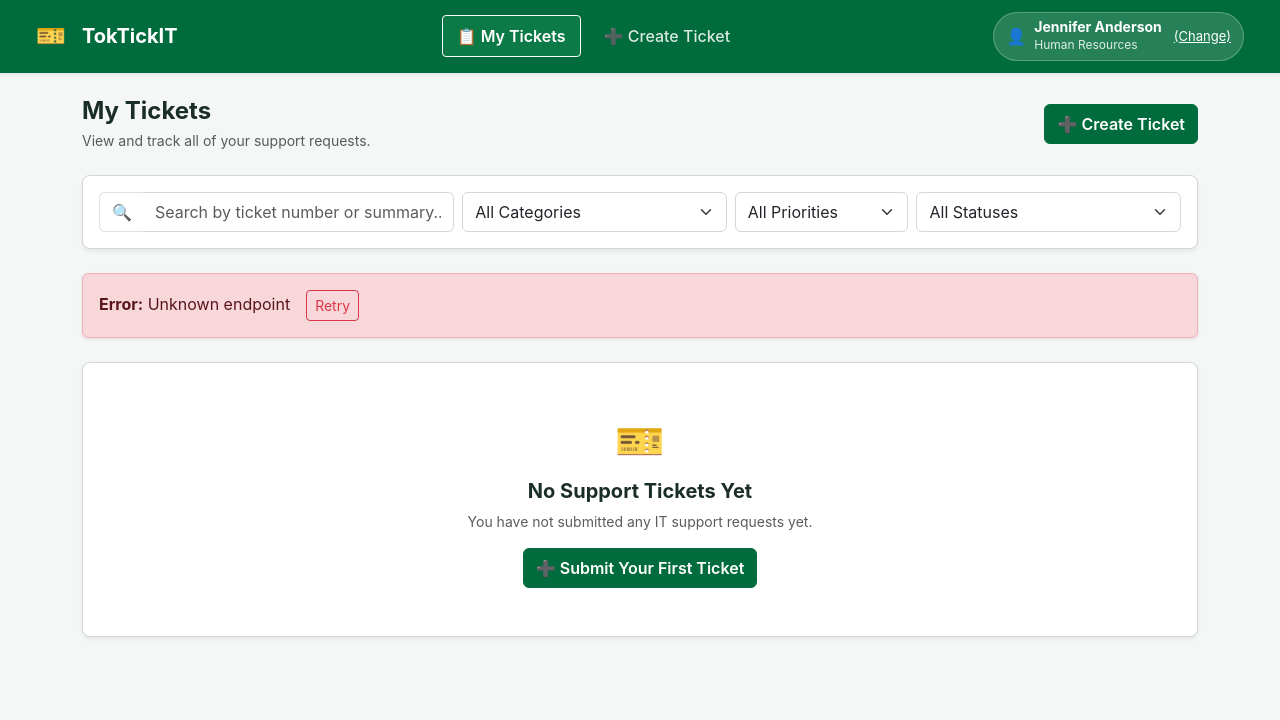
Test: Create Ticket Screen (Create Mode) › UI-01: renders Create Ticket form with read-only fields and reference data loaded
// Click nav link to go to Create Ticket
What coordinates should you click on to do the following:
click the button with test id "nav-create-ticket"
I would click on:
 (667, 36)
Its box is [589,15,745,57].
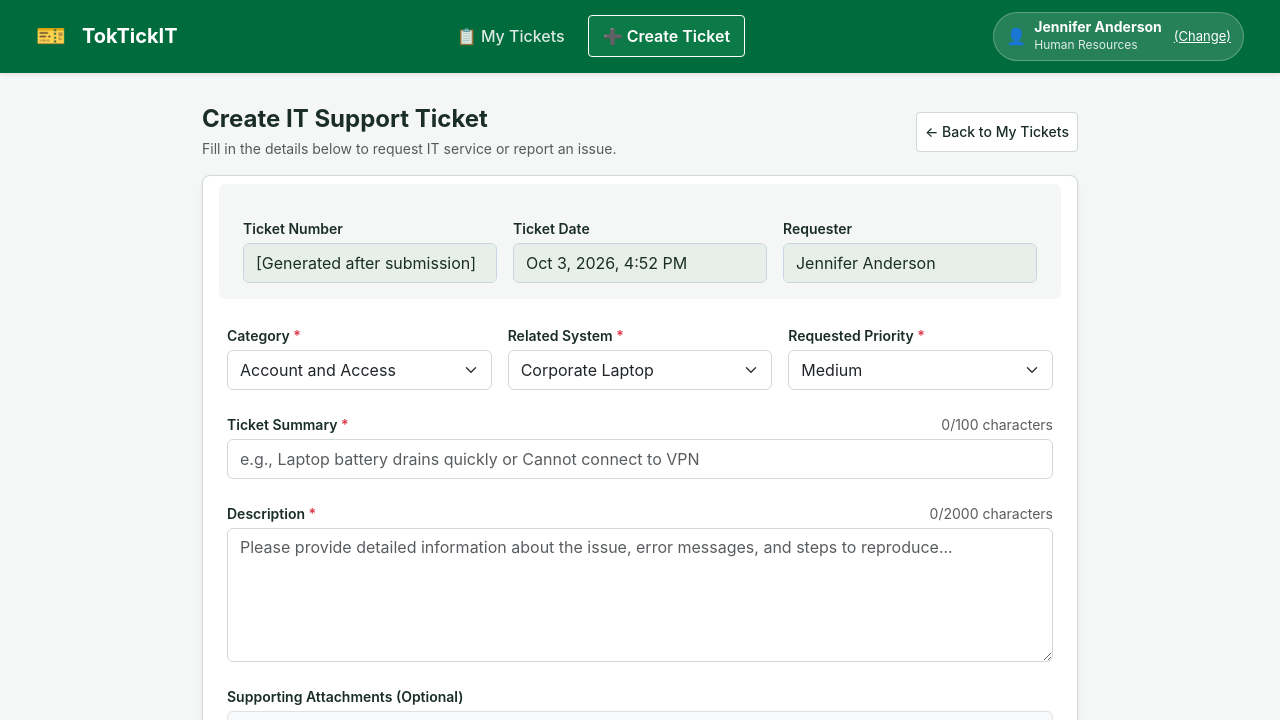
Expected: the heading "Create IT Support Ticket" is shown, [202,104,488,133]
Expected: the field with test id "ticket-requester-field" holds "Jennifer Anderson", [783,243,1037,283]
Expected: the field with test id "ticket-requester-field" is disabled, [783,243,1037,283]
